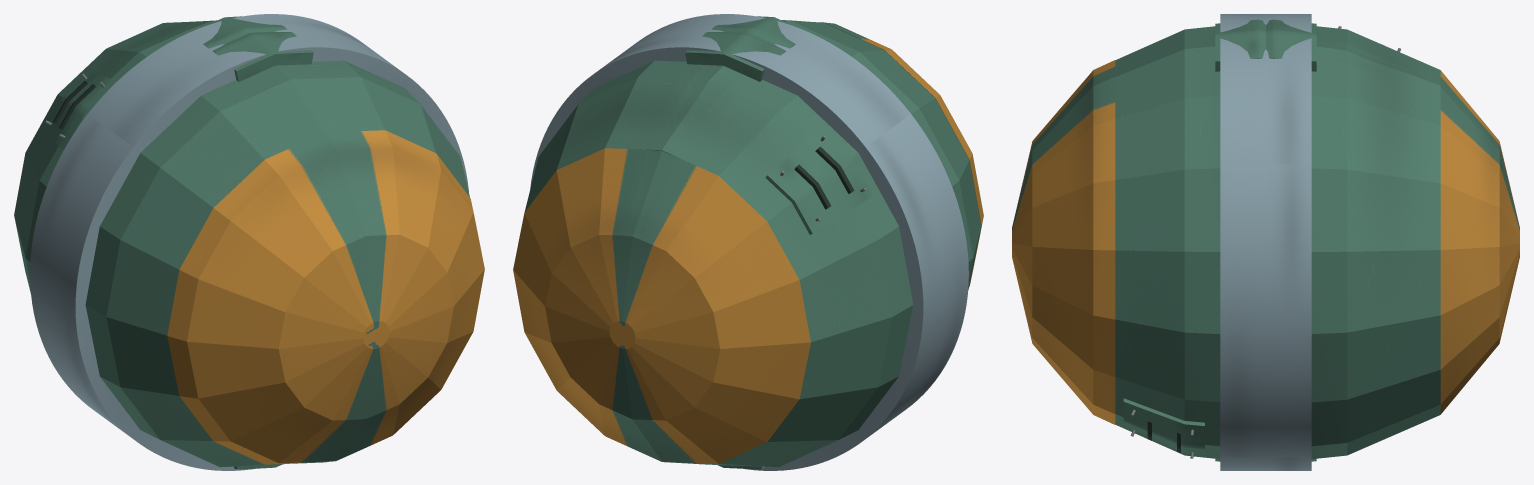
3 views of the same model, side by side, from view 1: azimuth 30°, elevation 25°; view 2: azimuth 150°, elevation 25°; view 3: azimuth 270°, elevation 25° (orthographic).
Visible parts, largest first — view 1: Artemian Space Hunger red forward cap, Artemian Space Hunger green forward shell, Artemian Space Hunger silver-blue transverse belt, Artemian Space Hunger green rear shell, Artemian Space Hunger green longitudinal strap 1, Artemian Space Hunger service cover 1, Artemian Space Hunger green longitudinal strap 3; view 2: Artemian Space Hunger red rear cap, Artemian Space Hunger green rear shell, Artemian Space Hunger silver-blue transverse belt, Artemian Space Hunger green forward shell, Artemian Space Hunger service cover 1, Artemian Space Hunger green longitudinal strap 3, Artemian Space Hunger red forward cap, Artemian Space Hunger green longitudinal strap 1; view 3: Artemian Space Hunger green rear shell, Artemian Space Hunger green forward shell, Artemian Space Hunger silver-blue transverse belt, Artemian Space Hunger red forward cap, Artemian Space Hunger red rear cap, Artemian Space Hunger service cover 0, Artemian Space Hunger green longitudinal strap 1, Artemian Space Hunger green longitudinal strap 3.
Boxes of the visible parts, left/top/right/bottom form: Artemian Space Hunger red forward cap: left=167, top=130, right=484, bottom=464; Artemian Space Hunger green forward shell: left=85, top=60, right=469, bottom=467; Artemian Space Hunger silver-blue transverse belt: left=30, top=14, right=468, bottom=470; Artemian Space Hunger green rear shell: left=14, top=20, right=216, bottom=293; Artemian Space Hunger green longitudinal strap 1: left=213, top=32, right=313, bottom=81; Artemian Space Hunger service cover 1: left=45, top=71, right=115, bottom=149; Artemian Space Hunger green longitudinal strap 3: left=202, top=16, right=287, bottom=48; Artemian Space Hunger red rear cap: left=513, top=148, right=810, bottom=463; Artemian Space Hunger green rear shell: left=524, top=60, right=913, bottom=467; Artemian Space Hunger silver-blue transverse belt: left=530, top=14, right=968, bottom=470; Artemian Space Hunger green forward shell: left=781, top=20, right=981, bottom=289; Artemian Space Hunger service cover 1: left=765, top=128, right=872, bottom=234; Artemian Space Hunger green longitudinal strap 3: left=685, top=32, right=785, bottom=81; Artemian Space Hunger red forward cap: left=815, top=22, right=983, bottom=286; Artemian Space Hunger green longitudinal strap 1: left=711, top=16, right=796, bottom=48; Artemian Space Hunger green rear shell: left=1311, top=26, right=1440, bottom=458; Artemian Space Hunger green forward shell: left=1115, top=26, right=1220, bottom=458; Artemian Space Hunger silver-blue transverse belt: left=1220, top=14, right=1311, bottom=470; Artemian Space Hunger red forward cap: left=1012, top=60, right=1115, bottom=424; Artemian Space Hunger red rear cap: left=1440, top=70, right=1519, bottom=414; Artemian Space Hunger service cover 0: left=1123, top=398, right=1204, bottom=455; Artemian Space Hunger green longitudinal strap 1: left=1215, top=19, right=1265, bottom=71; Artemian Space Hunger green longitudinal strap 3: left=1266, top=19, right=1316, bottom=71.
Size of the model in its own units: 0.9 by 0.92 by 1.
Materials: 5 (3 with a texture image).
